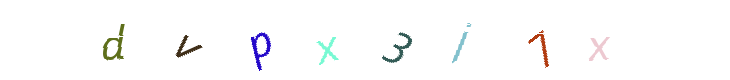3: (331, 0, 411, 80)
7: (421, 0, 501, 80)
D: (103, 0, 183, 80)
J: (351, 0, 431, 80)
P: (220, 0, 300, 80)
V: (206, 0, 286, 80)
X: (325, 0, 405, 80), (501, 0, 581, 80)
